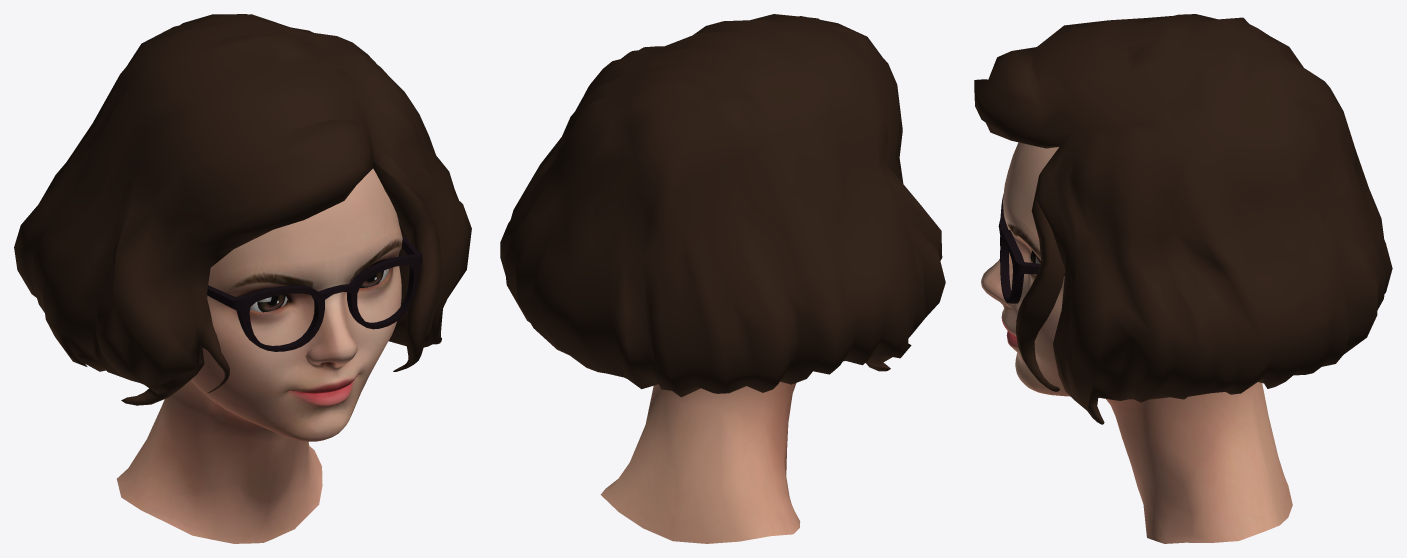
The picture shows the model from 3 angles, left to right: view 1: azimuth 30°, elevation 25°; view 2: azimuth 150°, elevation 25°; view 3: azimuth 270°, elevation 25°; orthographic projection. The views are drawn at different scales.
Parts seen in each view (by area): view 1: Wolf3D_Hair, Wolf3D_Head, Wolf3D_Glasses; view 2: Wolf3D_Hair, Wolf3D_Head; view 3: Wolf3D_Hair, Wolf3D_Head, Wolf3D_Glasses.
Boxes of the visible parts, left/top/right/bottom form: Wolf3D_Hair: left=14, top=14, right=471, bottom=405; Wolf3D_Head: left=117, top=168, right=402, bottom=543; Wolf3D_Glasses: left=207, top=237, right=422, bottom=351; Wolf3D_Hair: left=500, top=14, right=945, bottom=397; Wolf3D_Head: left=600, top=382, right=800, bottom=543; Wolf3D_Hair: left=974, top=14, right=1392, bottom=424; Wolf3D_Head: left=981, top=142, right=1292, bottom=543; Wolf3D_Glasses: left=998, top=194, right=1065, bottom=303.
Bounding box in the file's own units: 0.2768 × 0.3372 × 0.2571.
5 materials, 5 textured.
